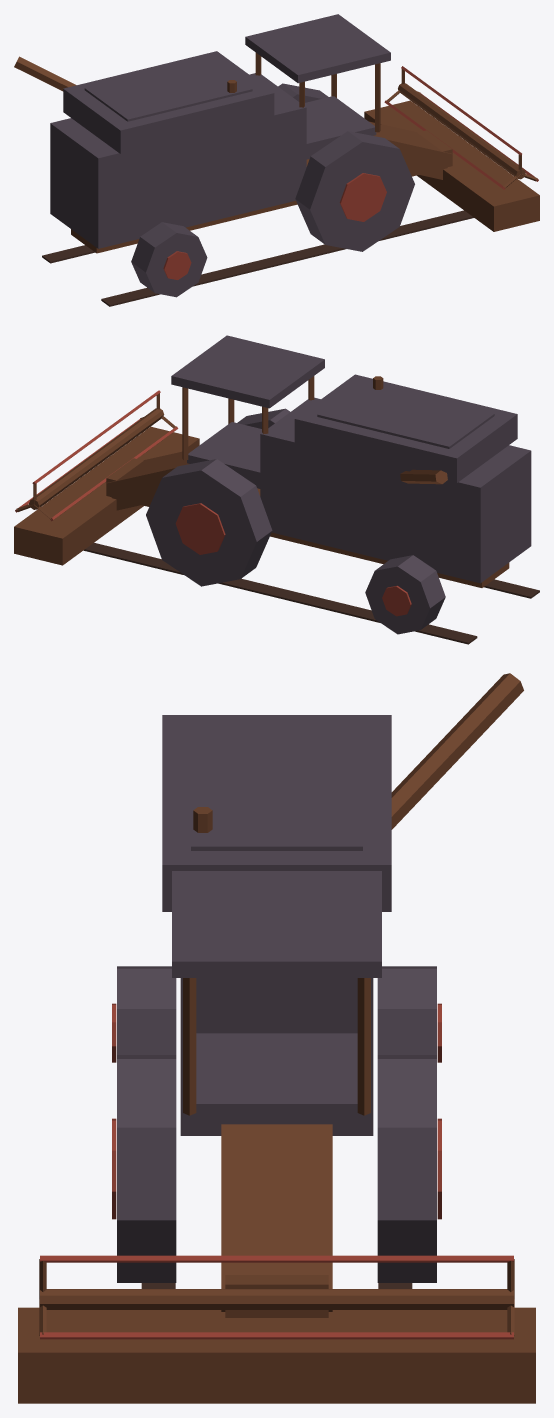
File: model.burned.lod1.glb
3 views of the same model, one above another, from view 1: azimuth 30°, elevation 25°; view 2: azimuth 150°, elevation 25°; view 3: azimuth 270°, elevation 25° (orthographic). The views are drawn at different scales.
Parts seen in each view (by area): view 1: body; view 2: body; view 3: body.
Part boxes in pixels (bbox=[...]): body: bbox=[14, 14, 539, 306]; body: bbox=[14, 335, 539, 644]; body: bbox=[18, 673, 535, 1403].
Bounding box in the file's own units: 6.37 × 2.73 × 3.5.
